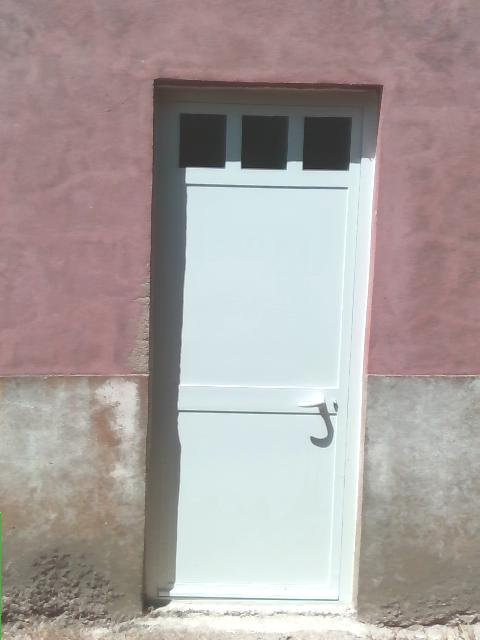closed_door: (140, 78, 382, 622)
